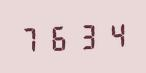four: (99, 18, 125, 50)
seven: (18, 22, 44, 54)
six: (45, 21, 71, 53)
three: (72, 20, 98, 51)
